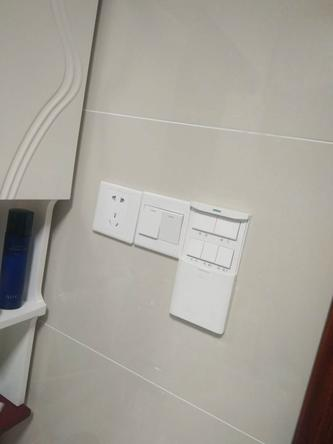switch: (217, 219, 245, 247), (162, 208, 177, 244), (194, 212, 216, 232), (142, 205, 154, 240), (201, 244, 217, 269), (226, 251, 236, 275), (187, 239, 196, 256)
